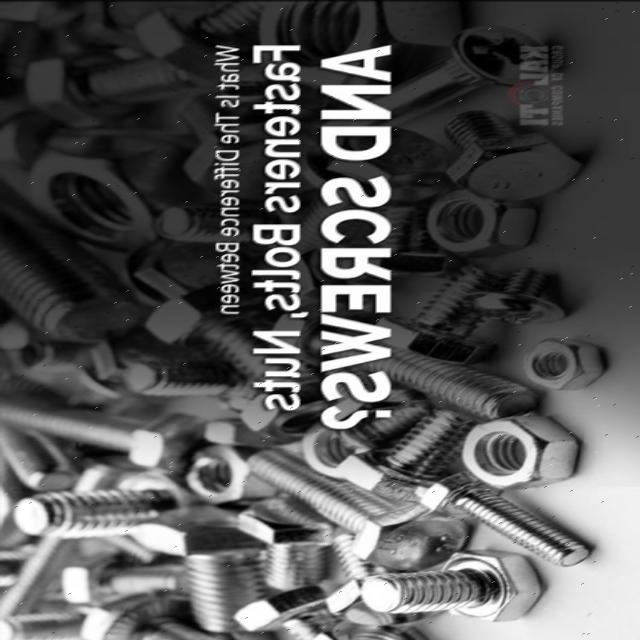Bolt: (276, 308, 546, 420), (252, 447, 472, 571), (147, 280, 305, 390), (425, 471, 599, 568), (0, 395, 210, 472), (142, 504, 270, 630), (334, 402, 478, 502), (10, 469, 190, 547), (374, 263, 510, 363), (24, 50, 204, 124), (360, 550, 544, 622), (444, 108, 584, 200), (128, 0, 268, 81), (240, 497, 336, 591), (64, 548, 184, 606), (226, 588, 334, 640)
Nut: (22, 132, 196, 250), (255, 0, 471, 86), (462, 417, 585, 490), (426, 186, 540, 256), (186, 446, 278, 506), (242, 384, 322, 438), (520, 338, 606, 388), (300, 420, 368, 480), (203, 418, 287, 448), (310, 620, 436, 640)
